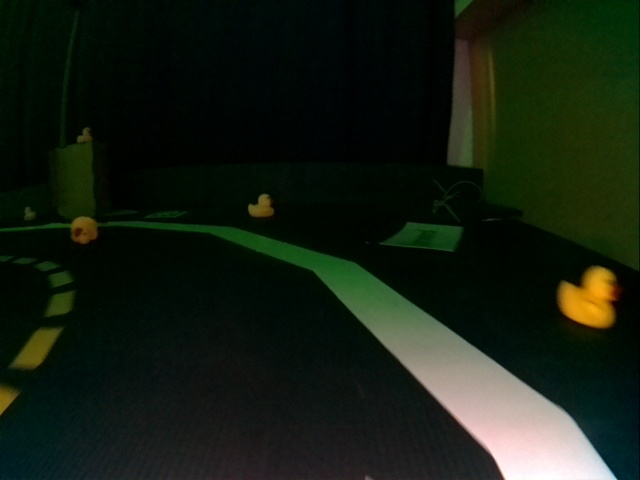Duckie: (561, 271, 618, 328), (71, 218, 97, 242), (251, 197, 274, 217), (79, 130, 92, 141), (24, 209, 35, 219)
QR code: (146, 211, 186, 219)
